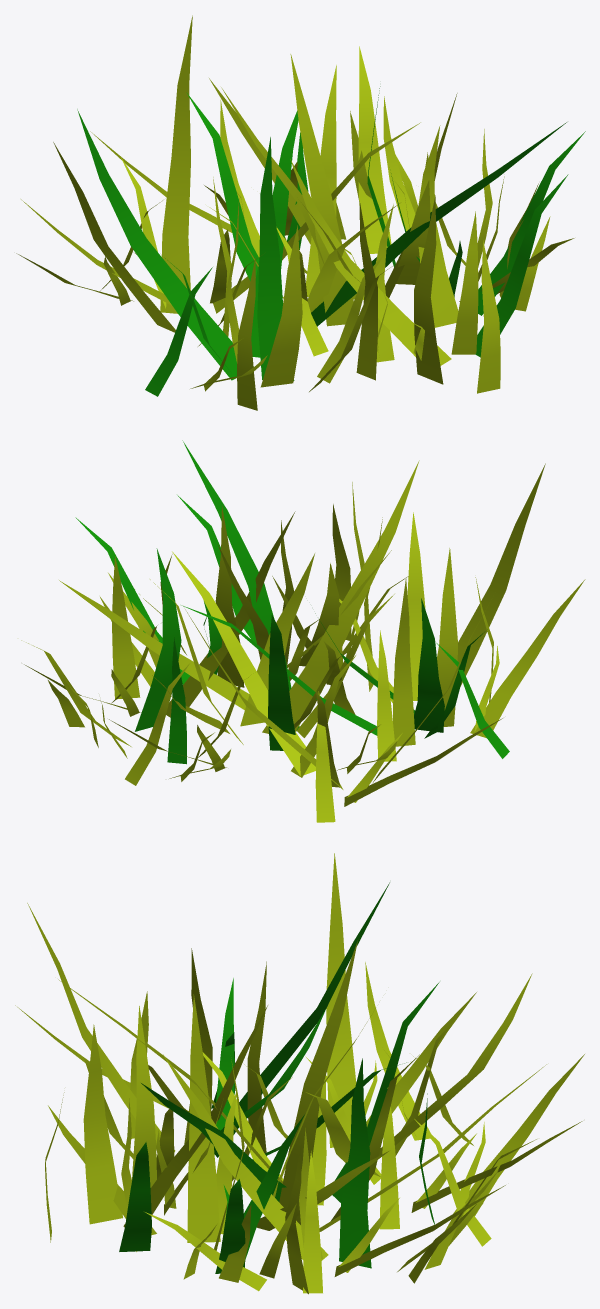
The model's file is LowPollyGrass01.fbx.
3 views of the same model, one above another, from view 1: azimuth 30°, elevation 25°; view 2: azimuth 150°, elevation 25°; view 3: azimuth 270°, elevation 25° (orthographic). The views are drawn at different scales.
Parts seen in each view (by area): view 1: grass.001; view 2: grass.001; view 3: grass.001.
Part boxes in pixels (x1=…): grass.001: x1=16, y1=15, x2=585, y2=410; grass.001: x1=21, y1=440, x2=585, y2=822; grass.001: x1=15, y1=853, x2=584, y2=1294.
Bounding box in the file's own units: 1925 × 849 × 1792.
